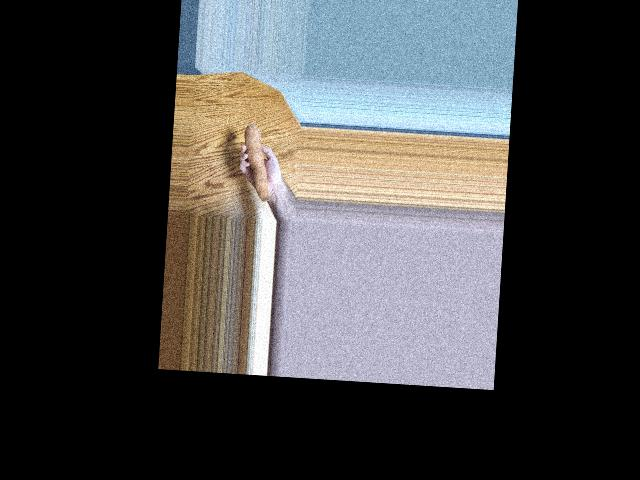sweet_potato: (239, 121, 272, 198)
